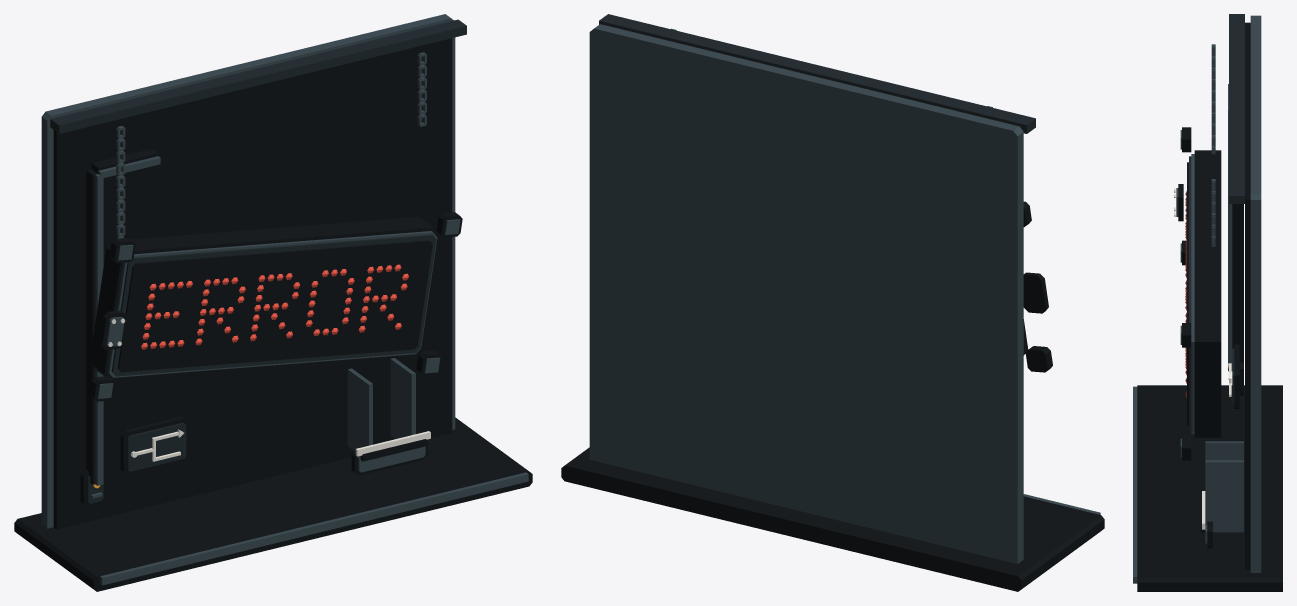
The picture shows the model from 3 angles, left to right: view 1: azimuth 30°, elevation 25°; view 2: azimuth 150°, elevation 25°; view 3: azimuth 270°, elevation 25°; orthographic projection. The views are drawn at different scales.
Visible parts, largest first — view 1: Exit Liquidity sign; view 2: Exit Liquidity sign; view 3: Exit Liquidity sign.
Part boxes in pixels (x1,y1,x2,y2): Exit Liquidity sign: (14,14,532,591); Exit Liquidity sign: (561,14,1104,591); Exit Liquidity sign: (1133,14,1282,591).
Size of the model in its own units: 1.08 by 1 by 0.3475.
